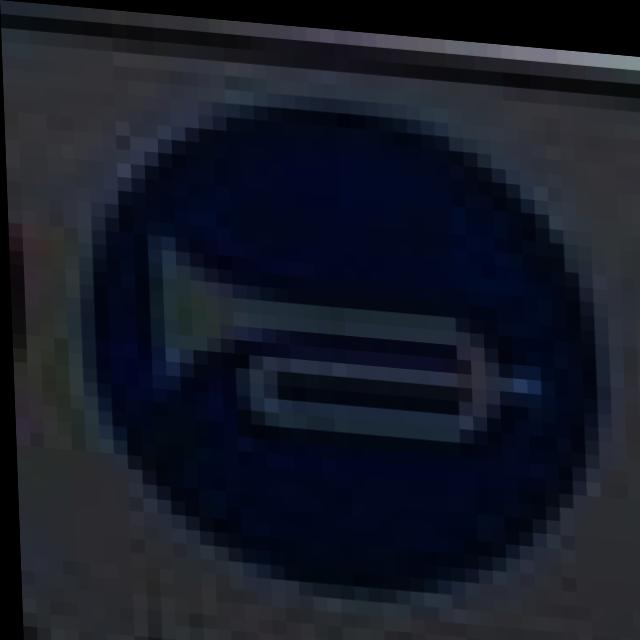COMPULSARY_SOUND_HORN: (76, 91, 594, 604)
